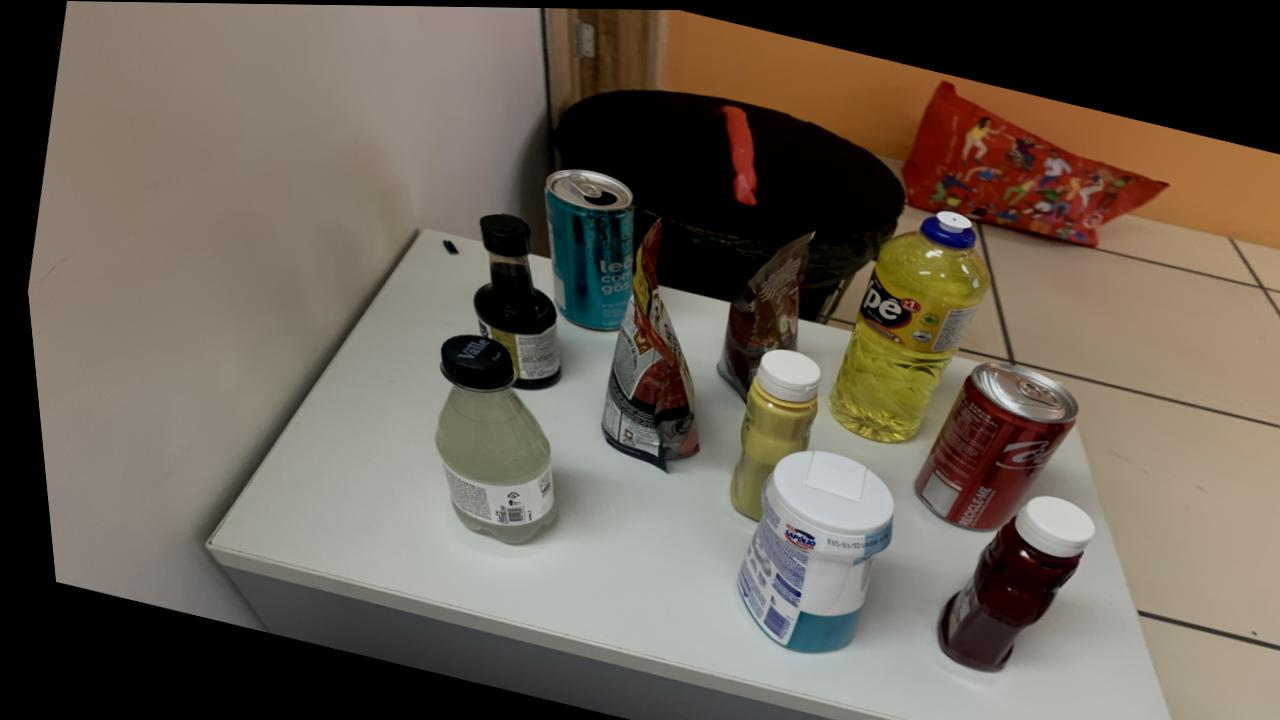Cleaner-Cleanup_Items: (724, 448, 884, 650)
Coffee-Pantry_Items: (709, 229, 809, 397)
Coke-Drinks: (905, 359, 1070, 528)
Detergent-Cleanup_Items: (819, 208, 985, 440)
English_Sauce-Pantry_Items: (467, 212, 553, 388)
Ketchup-Pantry_Items: (924, 492, 1085, 669)
Mustard-Pantry_Items: (719, 346, 814, 518)
Soda-Drinks: (425, 333, 545, 542)
Tea-Drinks: (539, 166, 631, 329)
Tomato_Sauce-Pantry_Items: (592, 219, 690, 468)
